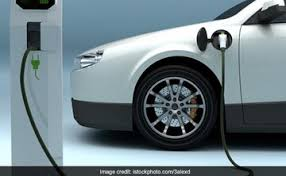wheel: (133, 66, 219, 149)
